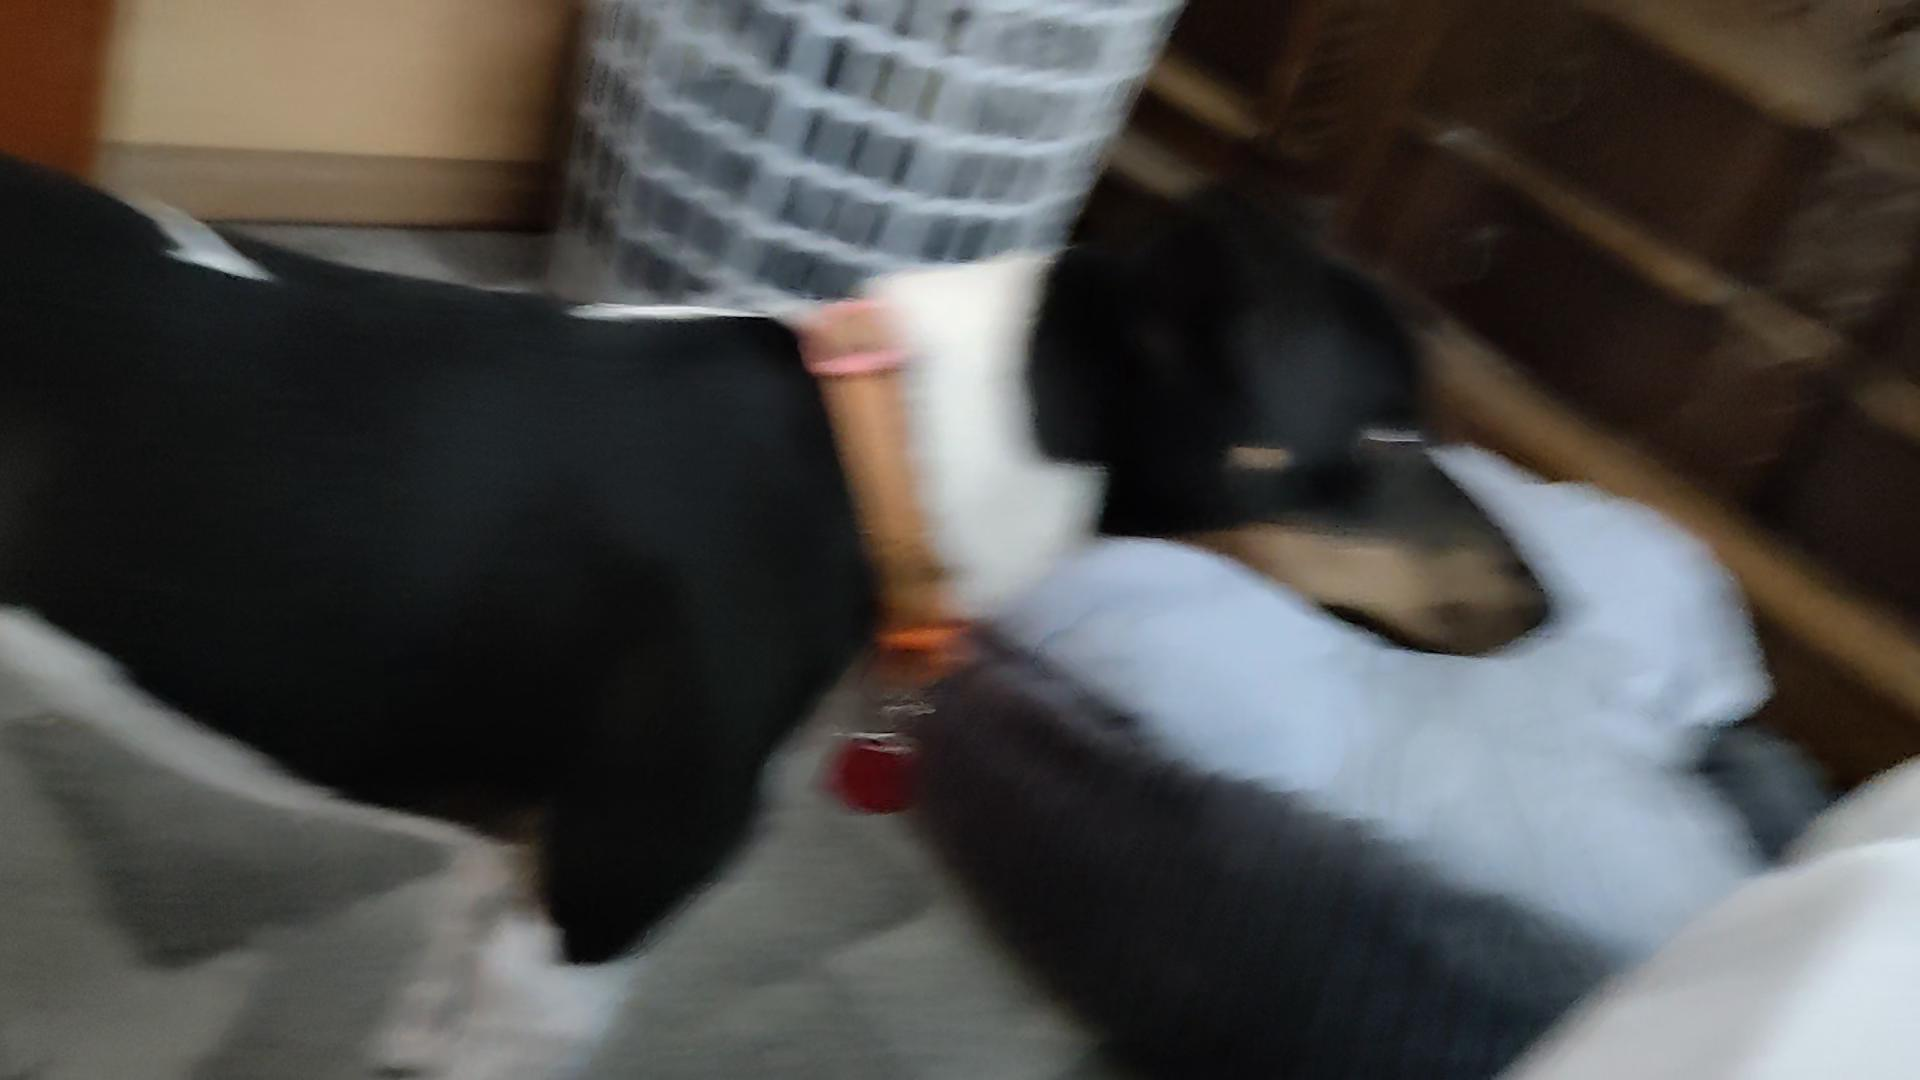Dog: (0, 142, 1564, 1079)
